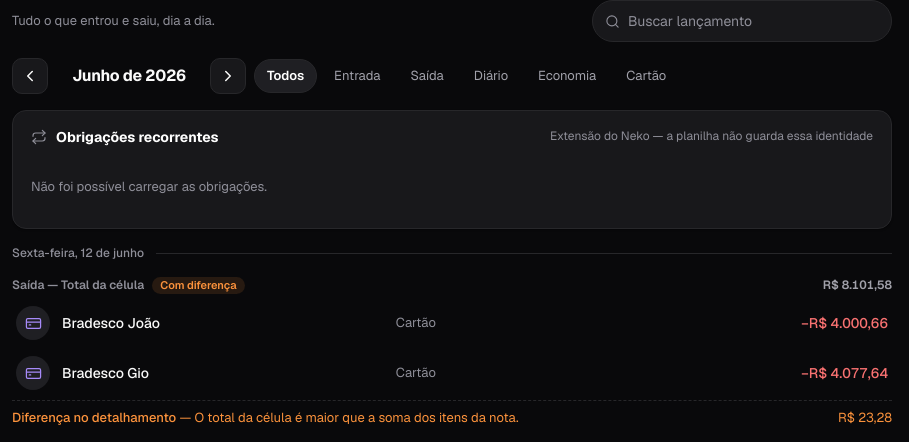
Scenario: TransactionsScreen (Lançamentos) › busca ativa esconde a reconciliação (subconjunto não compara com a célula)
Expected: the text "Com diferença" is shown, [152,276,245,294]
Step 1. Type "Gio" into the search field labelled "Buscar lançamento" → point(752, 21), box [626,10,879,32]
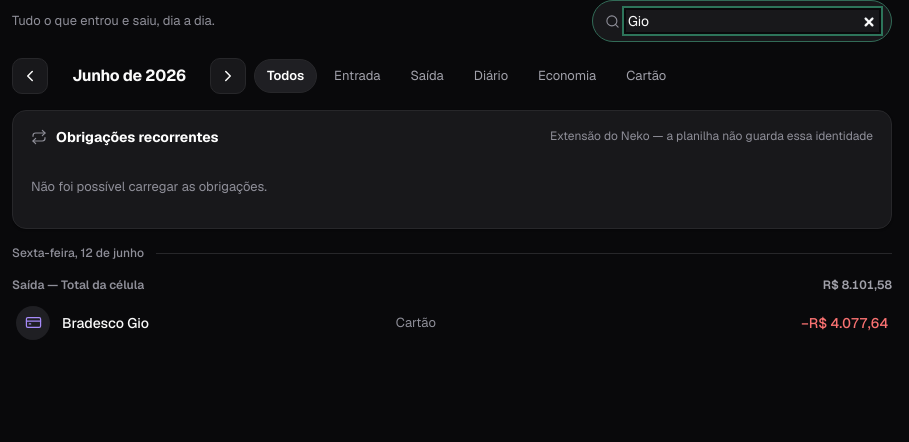
Now the text "Com diferença" is gone
Now the text "Diferença no detalhamento" is gone
Now the button "Bradesco João" is gone
